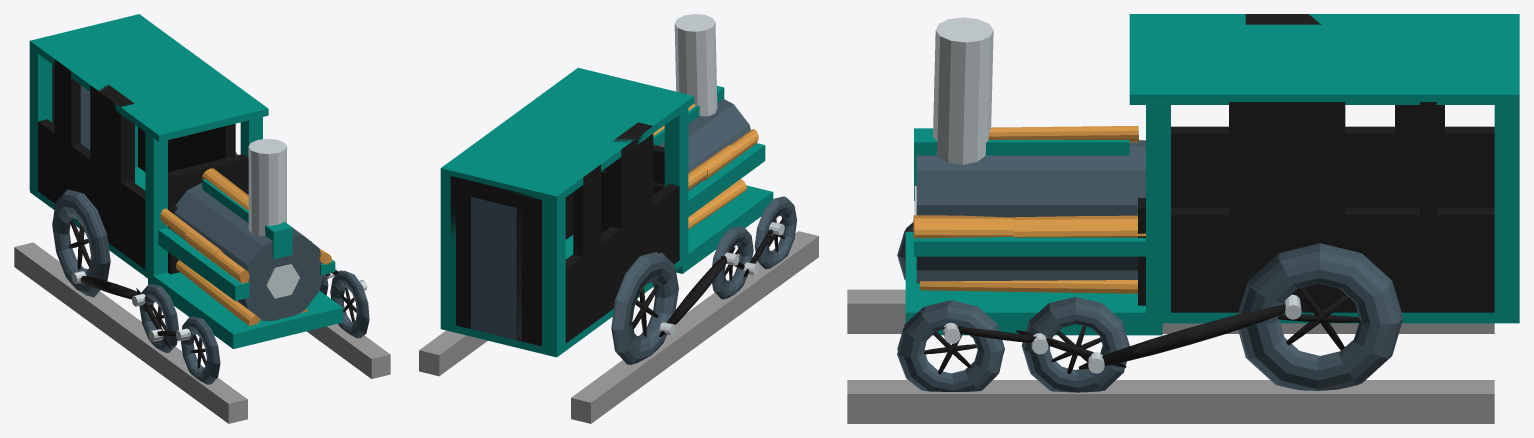
Rendered from scene_hHBaW7fCu4.glb.
The picture shows the model from 3 angles, left to right: view 1: azimuth 30°, elevation 25°; view 2: azimuth 150°, elevation 25°; view 3: azimuth 270°, elevation 25°; orthographic projection. The views are drawn at different scales.
Visible parts, largest first — view 1: group689530295, group195737478, group399083068, group1652513065, group1040844328, group1022279178, group1914903845, group1564757405, group998951009, group950938250, group47282826, group1308476804 (+19 smaller); view 2: group689530295, group399083068, group1652513065, group2011712748, group1022279178, group1914903845, group134904279, group950938250, group1564757405, group1040844328, group998951009, group490169186 (+19 smaller); view 3: group689530295, group47282826, group1864482118, group195737478, group1652513065, group1299689572, group1193570786, group1914903845, group1040844328, group1255963395, group1356567949, group895839130 (+16 smaller).
Boxes of the visible parts, left/top/right/bottom form: group689530295: left=29, top=14, right=268, bottom=142; group195737478: left=168, top=183, right=323, bottom=320; group399083068: left=14, top=242, right=247, bottom=423; group1652513065: left=38, top=119, right=145, bottom=269; group1040844328: left=148, top=272, right=342, bottom=348; group1022279178: left=90, top=84, right=134, bottom=186; group1914903845: left=248, top=139, right=286, bottom=235; group1564757405: left=52, top=191, right=107, bottom=297; group998951009: left=145, top=122, right=167, bottom=275; group950938250: left=29, top=46, right=52, bottom=195; group47282826: left=307, top=324, right=390, bottom=378; group1308476804: left=158, top=227, right=249, bottom=300; group689530295: left=440, top=67, right=694, bottom=203; group399083068: left=571, top=231, right=818, bottom=423; group1652513065: left=565, top=183, right=679, bottom=343; group2011712748: left=471, top=197, right=521, bottom=341; group1022279178: left=606, top=122, right=653, bottom=233; group1914903845: left=674, top=14, right=717, bottom=116; group134904279: left=516, top=197, right=541, bottom=346; group950938250: left=542, top=196, right=565, bottom=355; group1564757405: left=618, top=252, right=678, bottom=364; group1040844328: left=676, top=185, right=773, bottom=273; group998951009: left=664, top=96, right=688, bottom=259; group490169186: left=450, top=176, right=470, bottom=328; group689530295: left=1129, top=14, right=1519, bottom=104; group47282826: left=847, top=380, right=1494, bottom=423; group1864482118: left=1171, top=208, right=1494, bottom=312; group195737478: left=916, top=140, right=1145, bottom=283; group1652513065: left=1171, top=126, right=1494, bottom=207; group1299689572: left=1237, top=246, right=1399, bottom=390; group1193570786: left=1229, top=102, right=1345, bottom=214; group1914903845: left=933, top=17, right=993, bottom=164; group1040844328: left=905, top=232, right=1162, bottom=335; group1255963395: left=1494, top=94, right=1519, bottom=312; group1356567949: left=897, top=303, right=1004, bottom=391; group895839130: left=1146, top=102, right=1170, bottom=312.
Bounding box in the file's own units: 0.378 × 0.4624 × 0.81.
